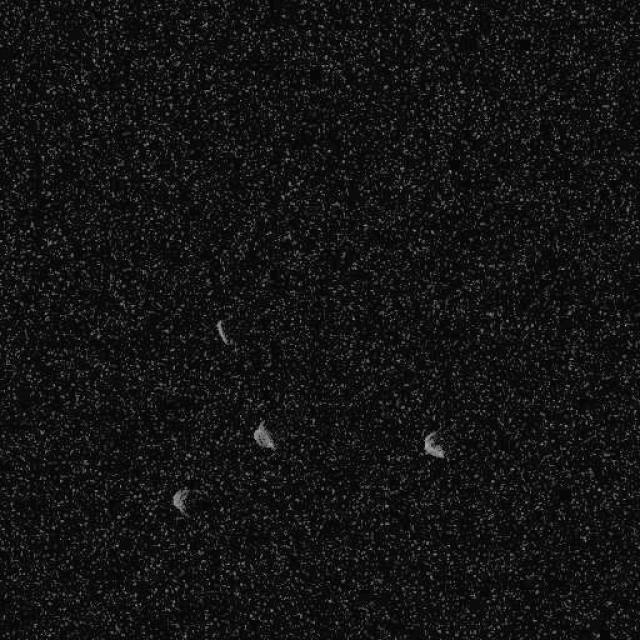D2: (422, 429, 447, 459), (252, 419, 276, 450), (170, 486, 190, 515), (214, 319, 230, 345)
